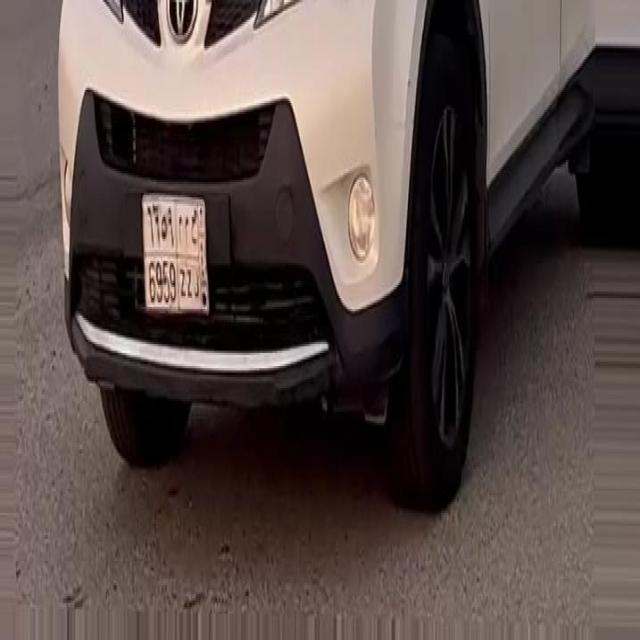Car-plate: (138, 170, 221, 335)
